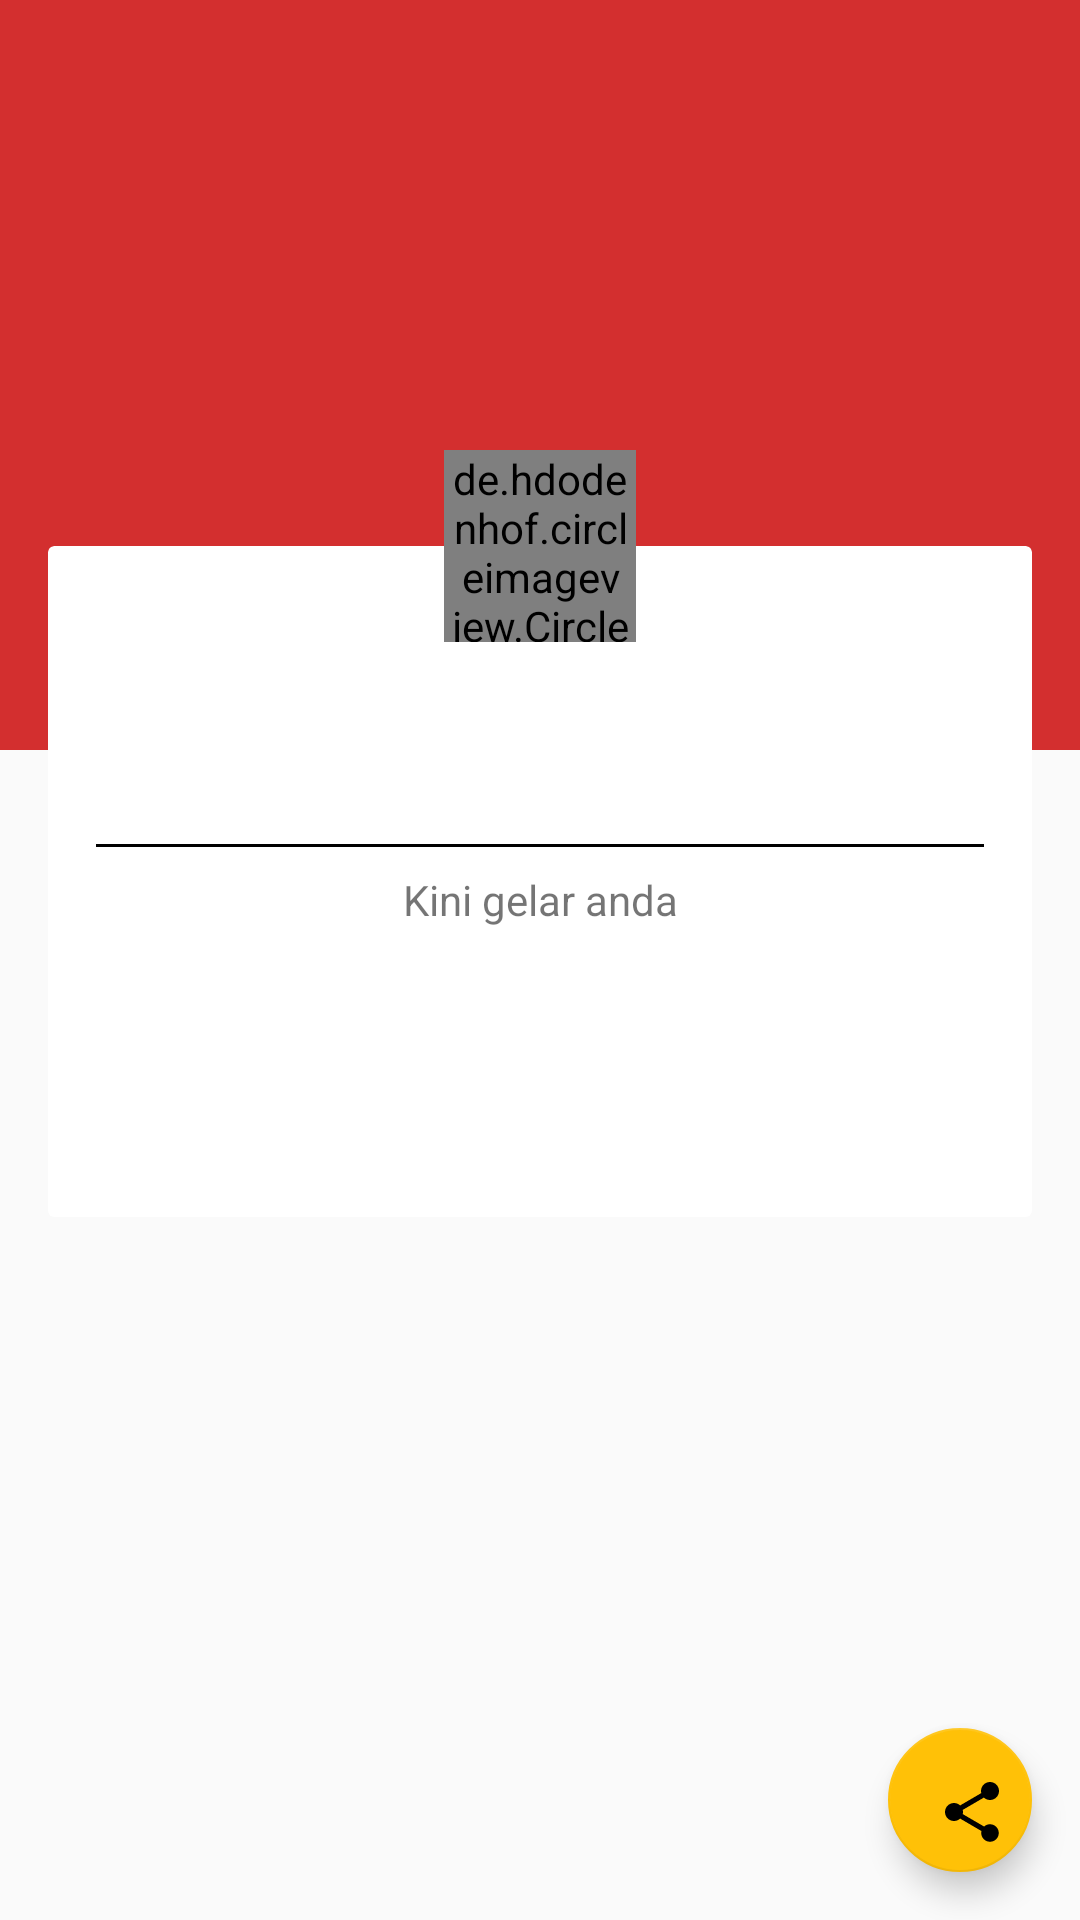

Icon bounding boxes for this 1080×1920 phone screenshot, format (x1, y1, x2, y2):
share: (888, 1728, 1032, 1872)
